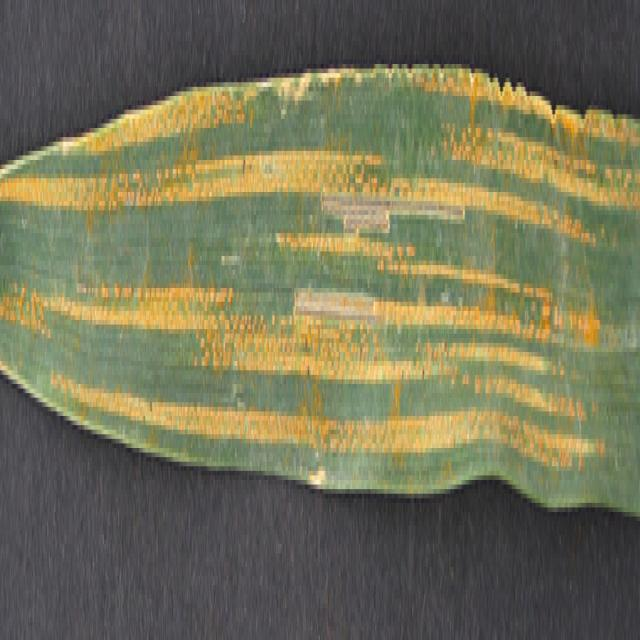leaf rust: (1, 73, 638, 526)
